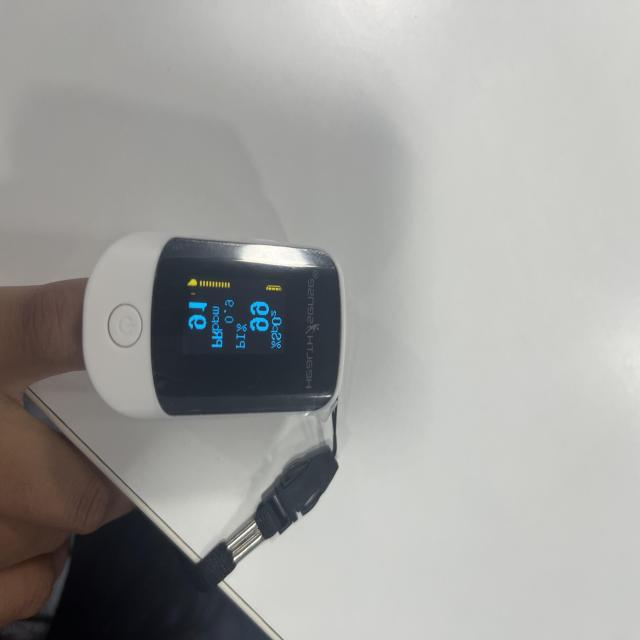spo2: (52, 233, 345, 585)
